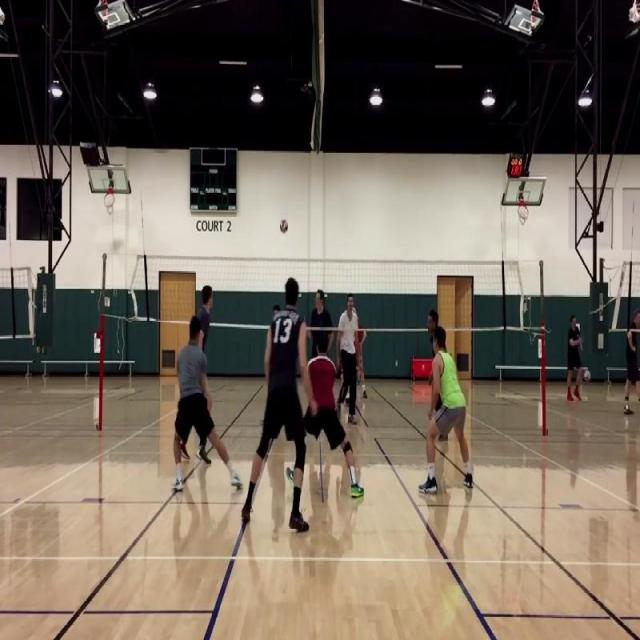volleyball: (280, 219, 288, 232)
